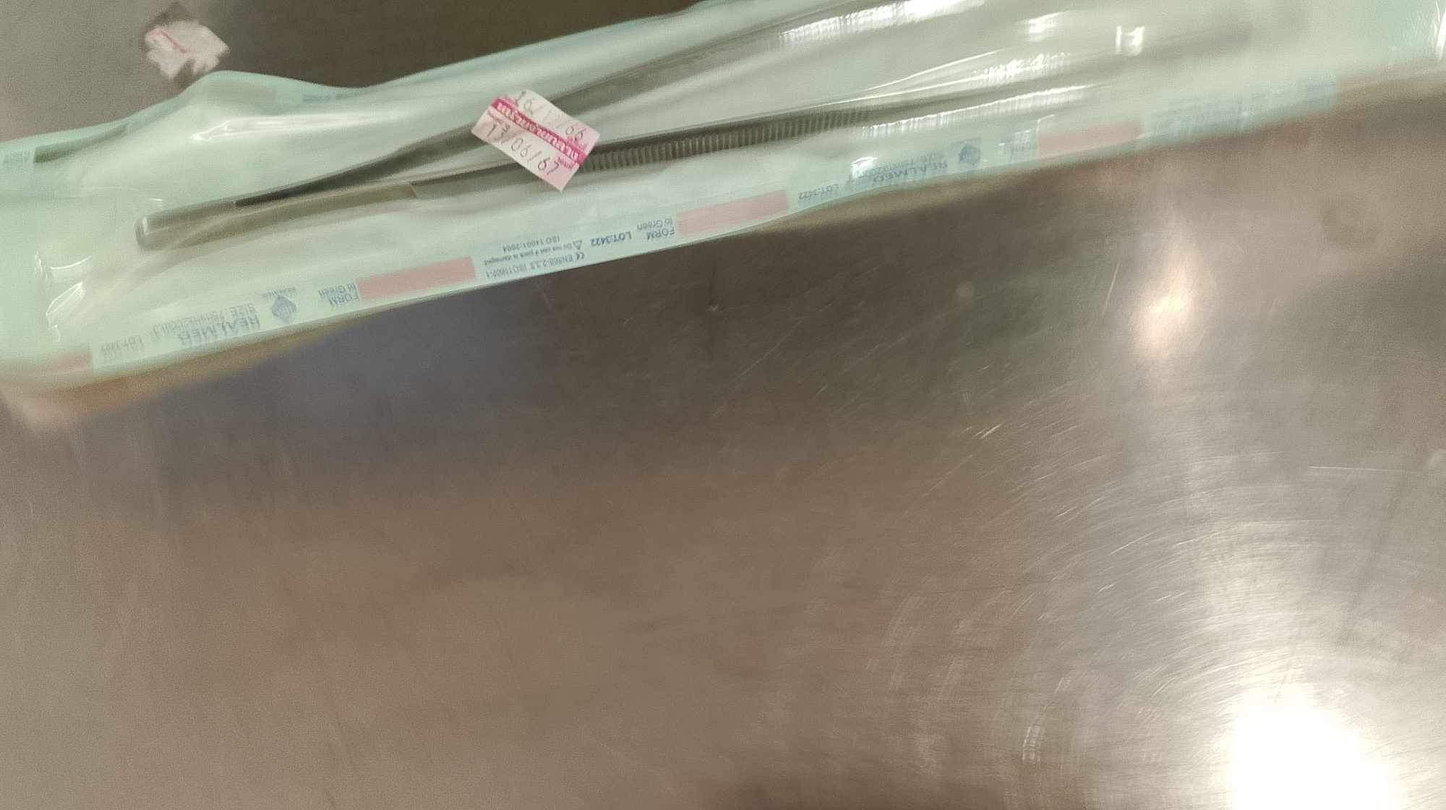General: (4, 4, 1440, 804)
Infectious: (2, 0, 1442, 391)
Sharps: (130, 4, 1254, 252)
